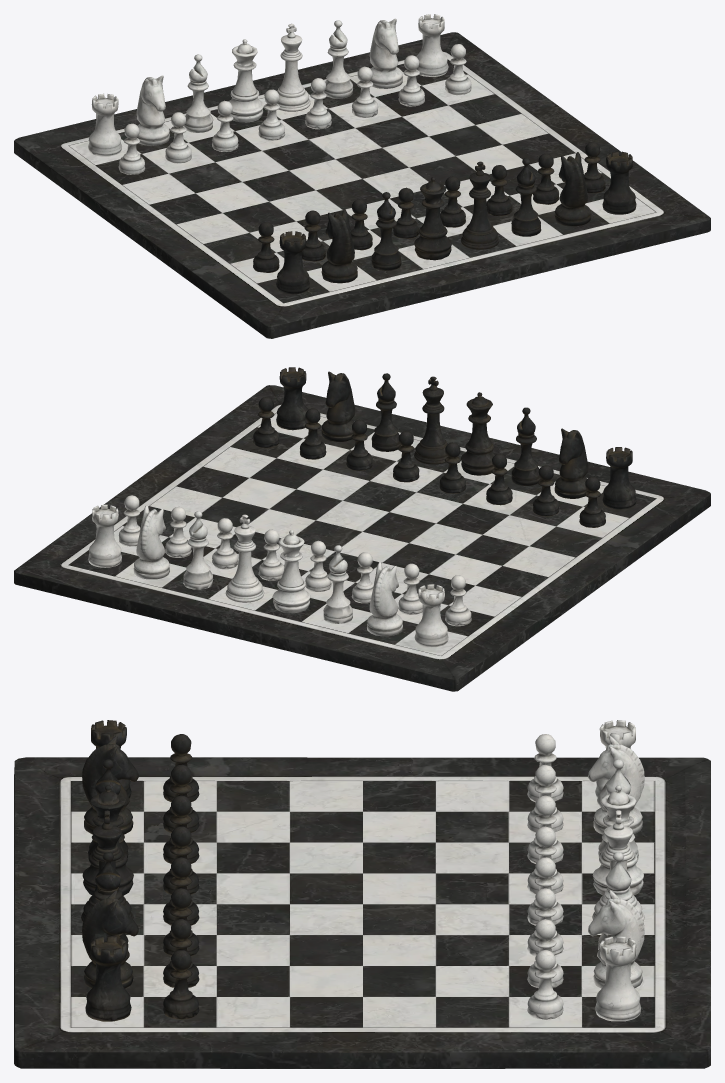
Rendered from ph-chess-set.glb.
3 views of the same model, one above another, from view 1: azimuth 30°, elevation 25°; view 2: azimuth 150°, elevation 25°; view 3: azimuth 270°, elevation 25° (orthographic). The views are drawn at different scales.
Parts seen in each view (by area): view 1: board, piece_rook_black_01, piece_rook_white_01, piece_king_black, piece_king_white; view 2: board, piece_rook_white_01, piece_rook_black_01, piece_king_white, piece_king_black; view 3: board, piece_rook_white_01, piece_rook_black_01, piece_king_black, piece_king_white.
Boxes of the visible parts, x1,y1,x2,y2 form: board: (14, 32, 710, 338); piece_rook_black_01: (253, 142, 636, 294); piece_rook_white_01: (88, 14, 471, 174); piece_king_black: (461, 161, 499, 249); piece_king_white: (276, 23, 310, 111); board: (14, 385, 710, 691); piece_rook_white_01: (88, 495, 471, 647); piece_rook_black_01: (253, 367, 636, 527); piece_king_white: (225, 514, 264, 602); piece_king_black: (414, 376, 447, 464); board: (14, 757, 710, 1068); piece_rook_white_01: (527, 720, 644, 1021); piece_rook_black_01: (82, 720, 199, 1021); piece_king_black: (81, 810, 133, 921); piece_king_white: (592, 810, 644, 920).
Size of the model in its own units: 0.5526 by 0.1123 by 0.5526.
Materials: 3 (3 with a texture image).
